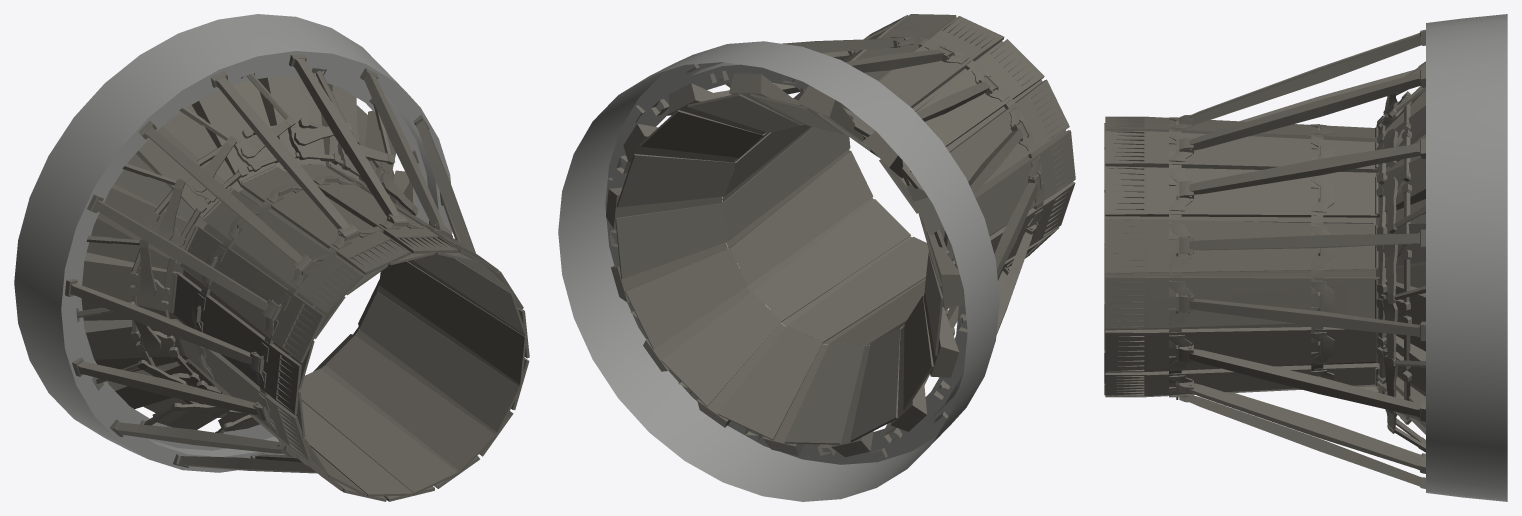
Rendered from tvc.glb.
The picture shows the model from 3 angles, left to right: view 1: azimuth 30°, elevation 25°; view 2: azimuth 150°, elevation 25°; view 3: azimuth 270°, elevation 25°; orthographic projection. The views are drawn at different scales.
Visible parts, largest first — view 1: A_tvc; view 2: A_tvc; view 3: A_tvc.
Part boxes in pixels (x1,y1,x2,y2): A_tvc: [14, 14, 529, 501]; A_tvc: [558, 14, 1075, 501]; A_tvc: [1104, 14, 1507, 501].
Size of the model in its own units: 4.2 by 4.2 by 3.47.
Materials: 2 (2 with a texture image).
